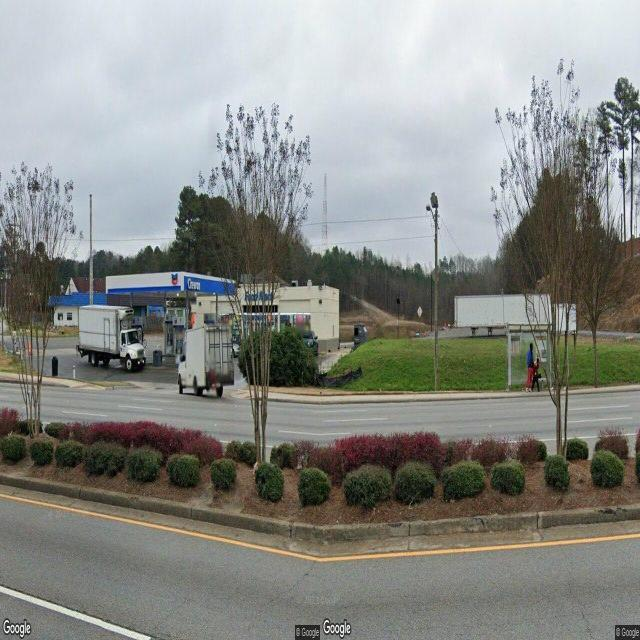seating: (528, 378, 546, 390)
shelter: (504, 322, 554, 392)
trash_can: (52, 356, 58, 376)
